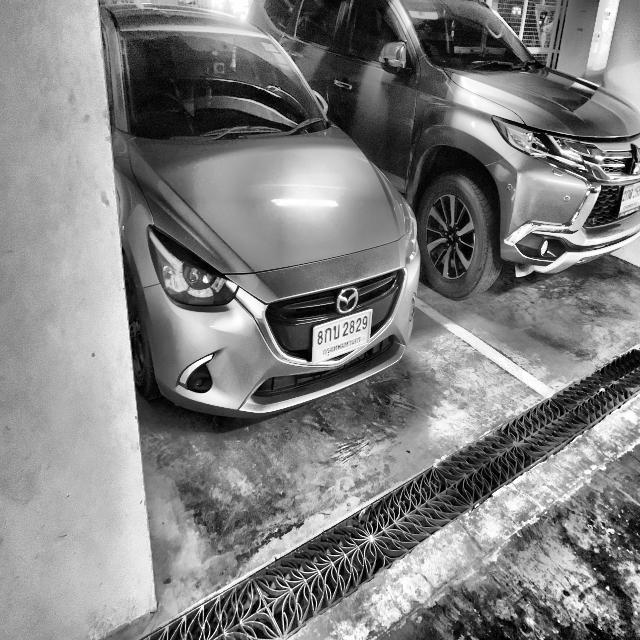license-plate: (313, 305, 376, 365), (618, 181, 640, 217)
